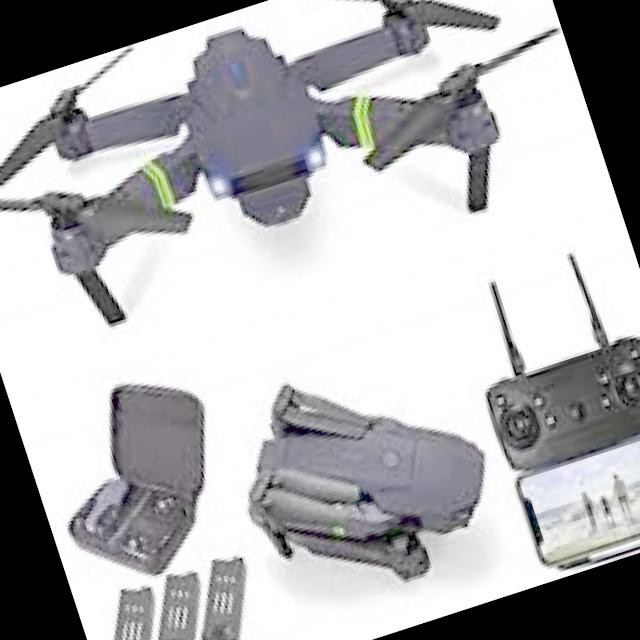drone: (0, 0, 613, 403)
